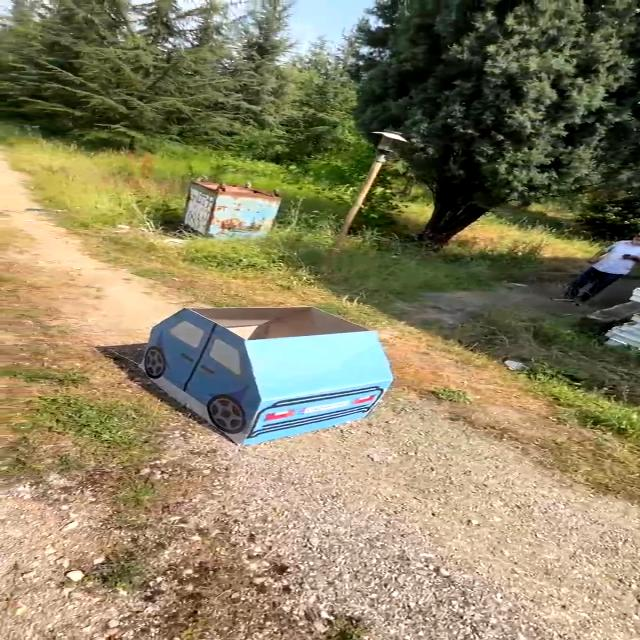blue_car: (111, 283, 400, 452)
